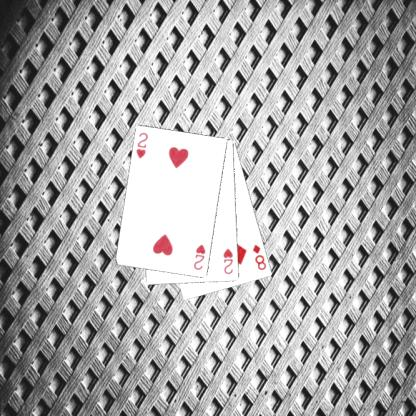2H: (191, 242, 207, 272), (134, 130, 149, 160), (221, 246, 234, 276)
8D: (250, 242, 268, 272)
